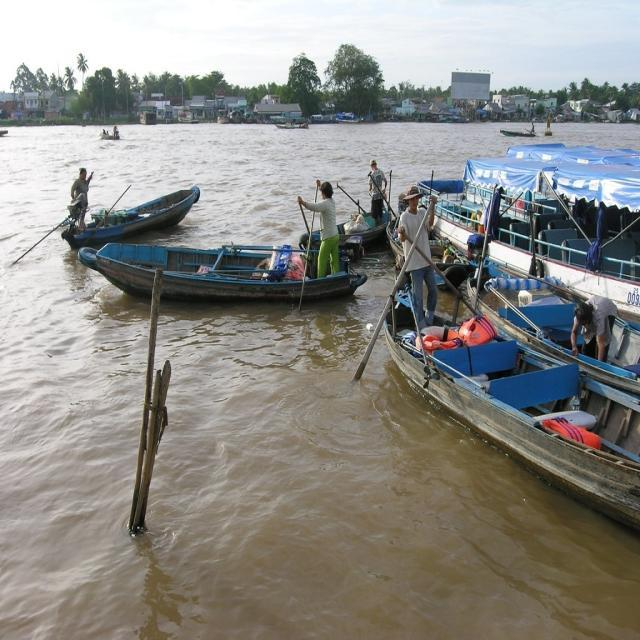boat: (81, 235, 372, 310), (65, 179, 204, 244), (496, 120, 541, 148), (274, 119, 311, 132), (91, 132, 127, 145)
